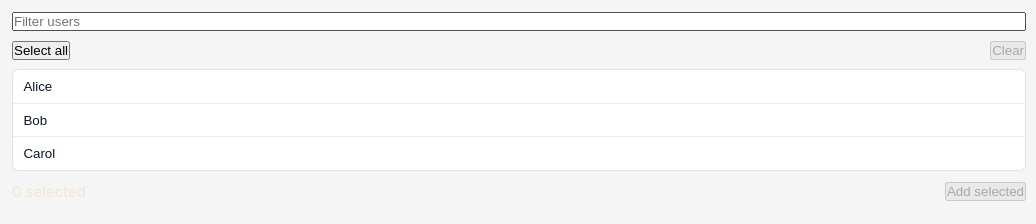
Test case: plain clicks toggle multiple users without a modifier key
Click the option "Alice": (38, 86) [13,70,1025,104]
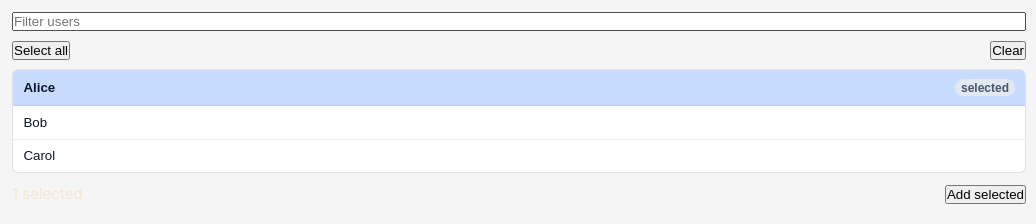
Click the option "Bob": (35, 122) [13,106,1025,140]
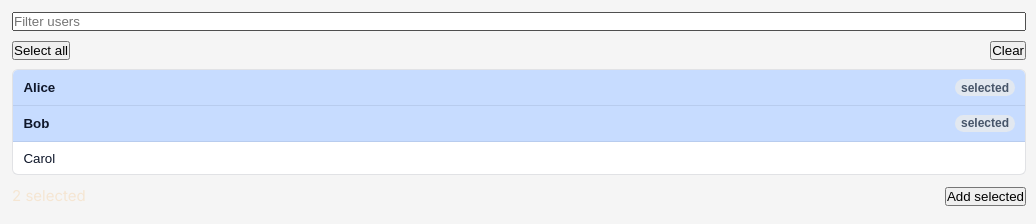
Expected: the text "2 selected" is shown, [12,185,86,207]
Click the option "Alice selected": (39, 88) [13,70,1025,106]
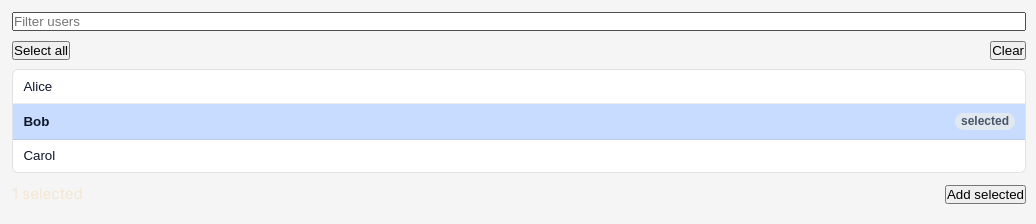
Expected: the text "1 selected" is shown, [12,183,83,205]
